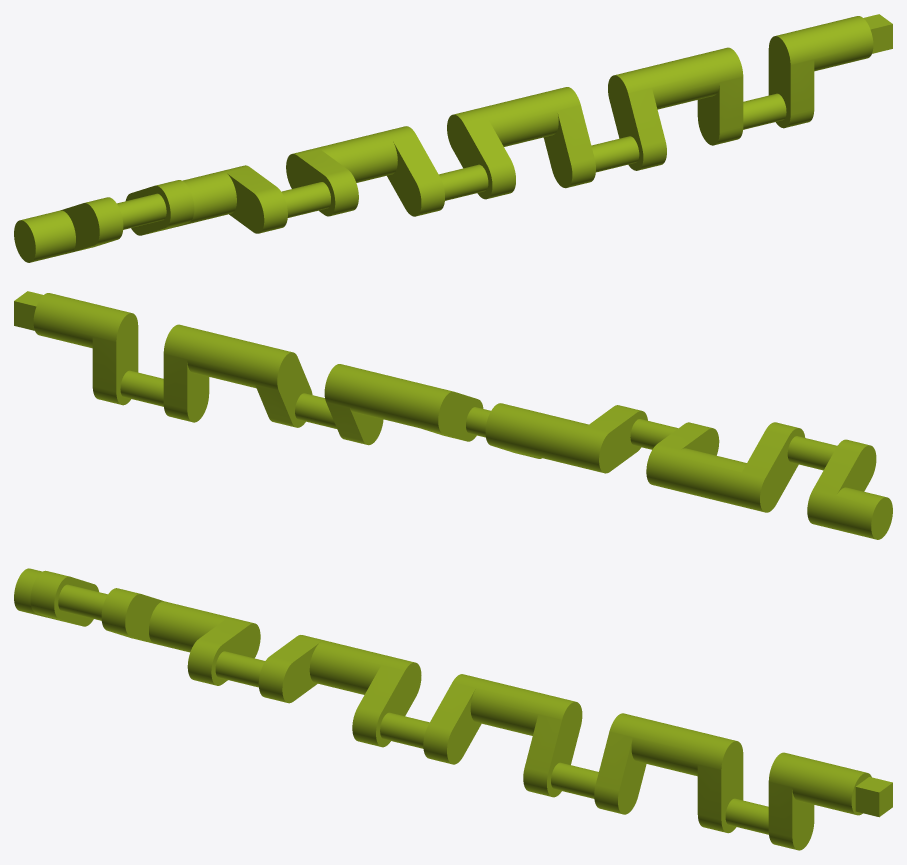
File: wal_korbowy.obj
3 views of the same model, one above another, from view 1: azimuth 30°, elevation 25°; view 2: azimuth 150°, elevation 25°; view 3: azimuth 330°, elevation 25° (orthographic).
Visible parts, largest first — view 1: WalKorbowy; view 2: WalKorbowy; view 3: WalKorbowy.
Boxes of the visible parts, <box> form: WalKorbowy: <box>14,14,892,262</box>; WalKorbowy: <box>14,291,892,539</box>; WalKorbowy: <box>14,568,892,850</box>.
Bounding box in the file's own units: 182 × 22.98 × 17.99.
